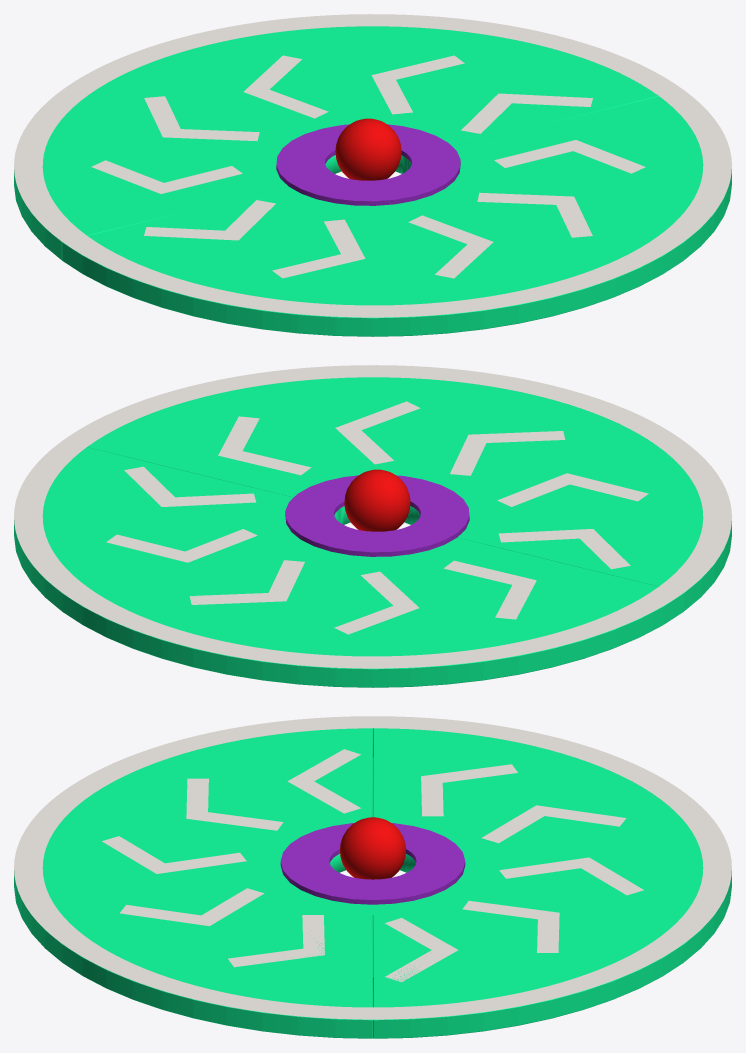
Rendered from Banhquay1.fbx.
The picture shows the model from 3 angles, top to bottom: view 1: azimuth 30°, elevation 25°; view 2: azimuth 150°, elevation 25°; view 3: azimuth 270°, elevation 25°; orthographic projection.
Parts seen in each view (by area): view 1: Cylinder053, Cylinder051, Circle005, Circle003, Sphere001, Line007, Line012, Line006, Line011, Line002, Line008, Line009 (+3 smaller); view 2: Cylinder051, Cylinder053, Circle005, Circle003, Sphere001, Line004, Line009, Line010, Line005, Line012, Line008, Line007 (+3 smaller); view 3: Cylinder051, Cylinder053, Circle005, Circle003, Sphere001, Line005, Line009, Line011, Line007, Line006, Line010, Line004 (+3 smaller).
Part boxes in pixels (bbox=[...]): Cylinder053: bbox=[62, 96, 731, 336]; Cylinder051: bbox=[14, 26, 658, 260]; Circle005: bbox=[14, 14, 731, 317]; Circle003: bbox=[276, 124, 460, 205]; Sphere001: bbox=[335, 118, 401, 180]; Line007: bbox=[91, 160, 242, 193]; Line012: bbox=[494, 140, 645, 173]; Line006: bbox=[144, 96, 259, 141]; Line011: bbox=[477, 192, 592, 237]; Line002: bbox=[461, 93, 592, 133]; Line008: bbox=[144, 200, 275, 240]; Line009: bbox=[272, 219, 365, 278]; Cylinder051: bbox=[14, 447, 683, 687]; Cylinder053: bbox=[87, 377, 731, 611]; Circle005: bbox=[14, 365, 731, 668]; Circle003: bbox=[285, 475, 469, 556]; Sphere001: bbox=[344, 469, 410, 531]; Line004: bbox=[106, 529, 257, 562]; Line009: bbox=[497, 473, 648, 506]; Line010: bbox=[450, 431, 565, 475]; Line005: bbox=[189, 560, 304, 604]; Line012: bbox=[218, 416, 311, 475]; Line008: bbox=[498, 529, 630, 569]; Line007: bbox=[443, 560, 536, 619]; Cylinder051: bbox=[373, 728, 731, 1038]; Cylinder053: bbox=[14, 728, 372, 1038]; Circle005: bbox=[14, 716, 731, 1019]; Circle003: bbox=[280, 823, 465, 904]; Sphere001: bbox=[340, 817, 405, 879]; Line005: bbox=[499, 857, 643, 895]; Line009: bbox=[186, 778, 283, 830]; Line011: bbox=[120, 888, 264, 926]; Line007: bbox=[421, 764, 517, 816]; Line006: bbox=[482, 805, 626, 843]; Line010: bbox=[102, 836, 246, 873]; Line004: bbox=[462, 900, 559, 952].
Bounding box in the file's own units: 27.64 × 2.76 × 27.64.
